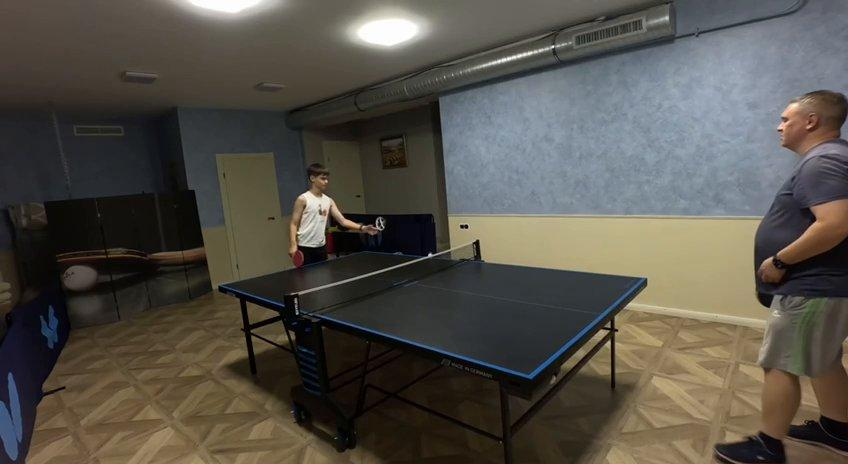Ball: (426, 252, 436, 258)
Net: (282, 240, 482, 318)
Player1: (289, 163, 380, 266)
Player2: (715, 90, 847, 463)
Table: (220, 254, 645, 376)
